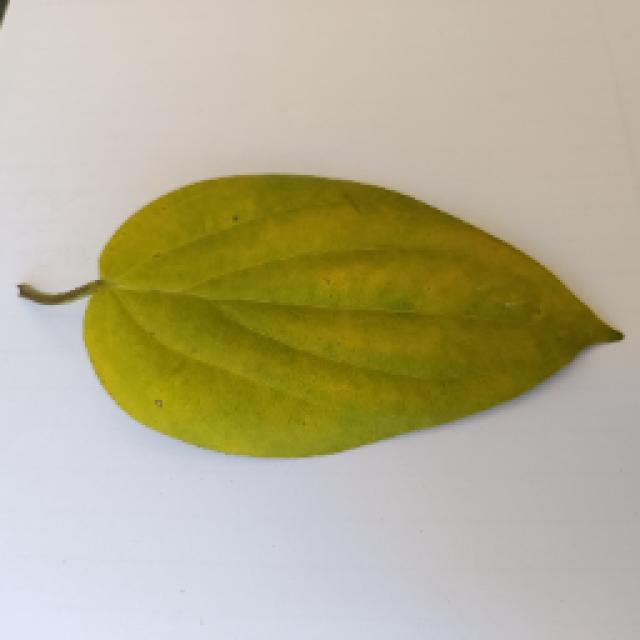slow-decline: (30, 167, 625, 455)
